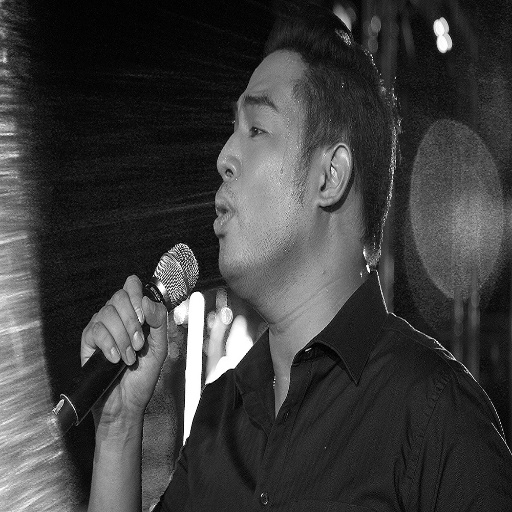hand: (70, 274, 160, 396)
